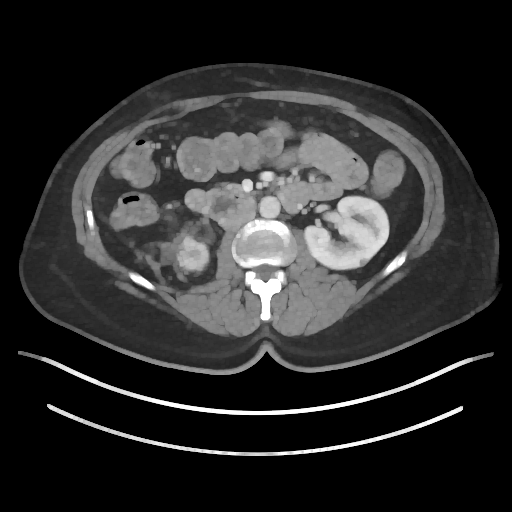Lesion: (353, 256, 372, 270)
